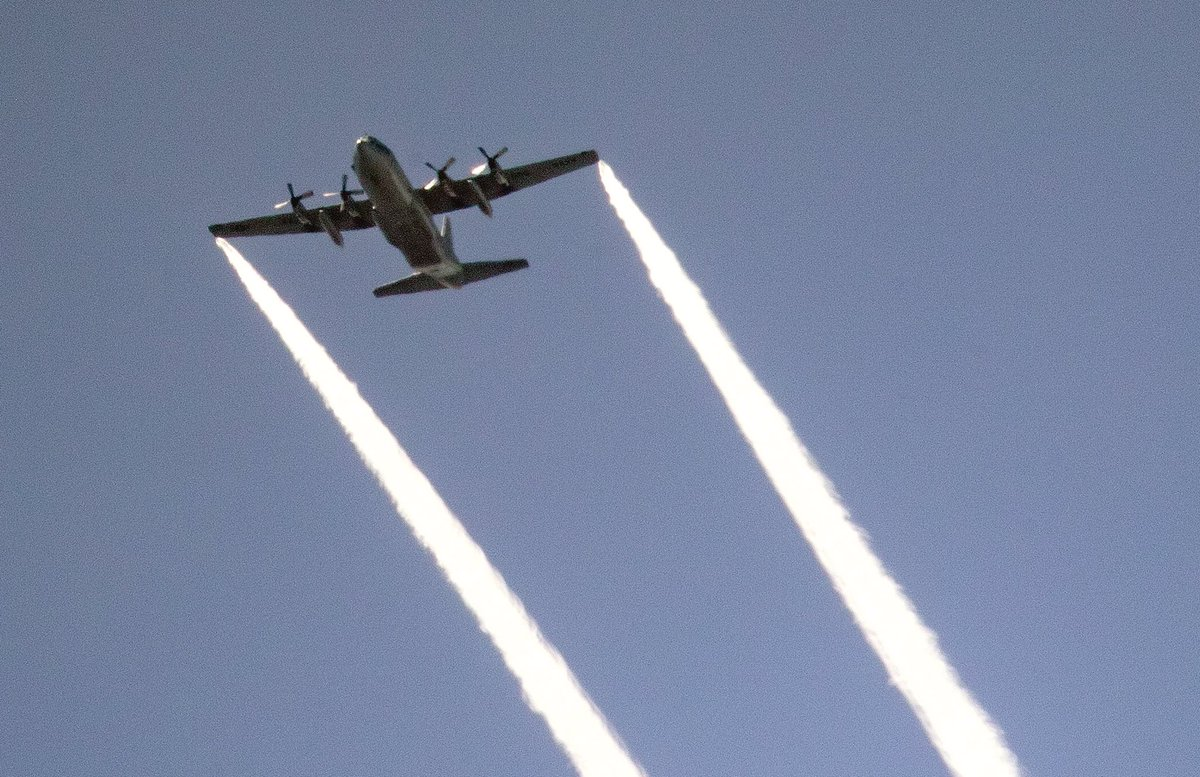plane: (208, 136, 600, 301)
